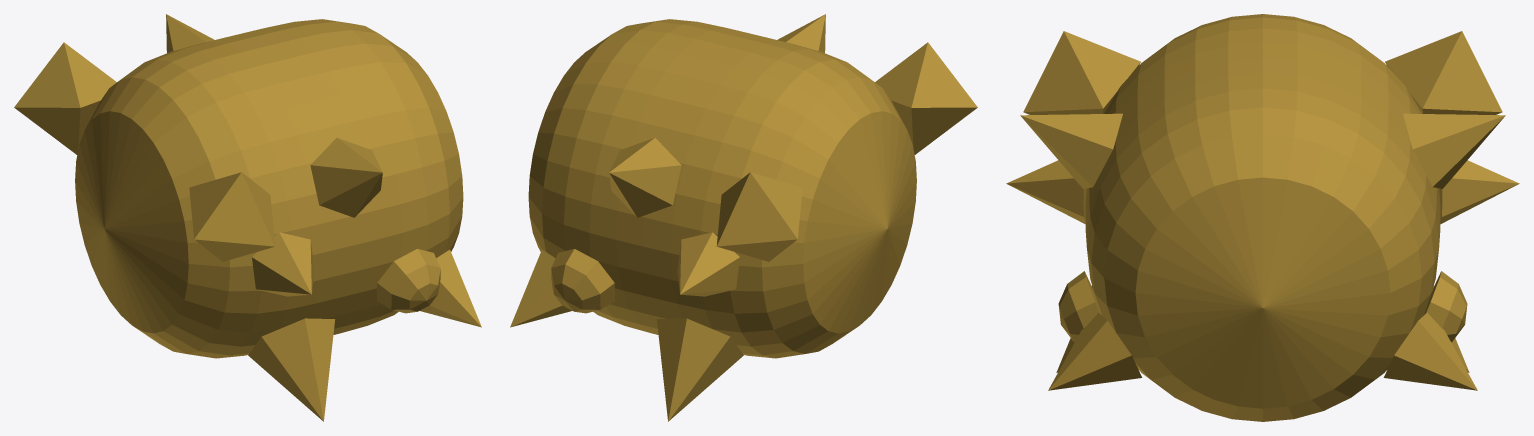
File: exp2_barrel_sym_03.glb
3 renders of one model, left to right at view 1: azimuth 30°, elevation 25°; view 2: azimuth 150°, elevation 25°; view 3: azimuth 270°, elevation 25°, orthographic. The views are drawn at different scales.
Parts seen in each view (by area): view 1: exp2_barrel_sym_03; view 2: exp2_barrel_sym_03; view 3: exp2_barrel_sym_03.
Part boxes in pixels (box(x1,y1,x2,y2)): exp2_barrel_sym_03: box(14, 14, 481, 421); exp2_barrel_sym_03: box(510, 14, 977, 421); exp2_barrel_sym_03: box(1006, 14, 1519, 421).
Bounding box in the file's own units: 1.57 × 1.36 × 1.88.
